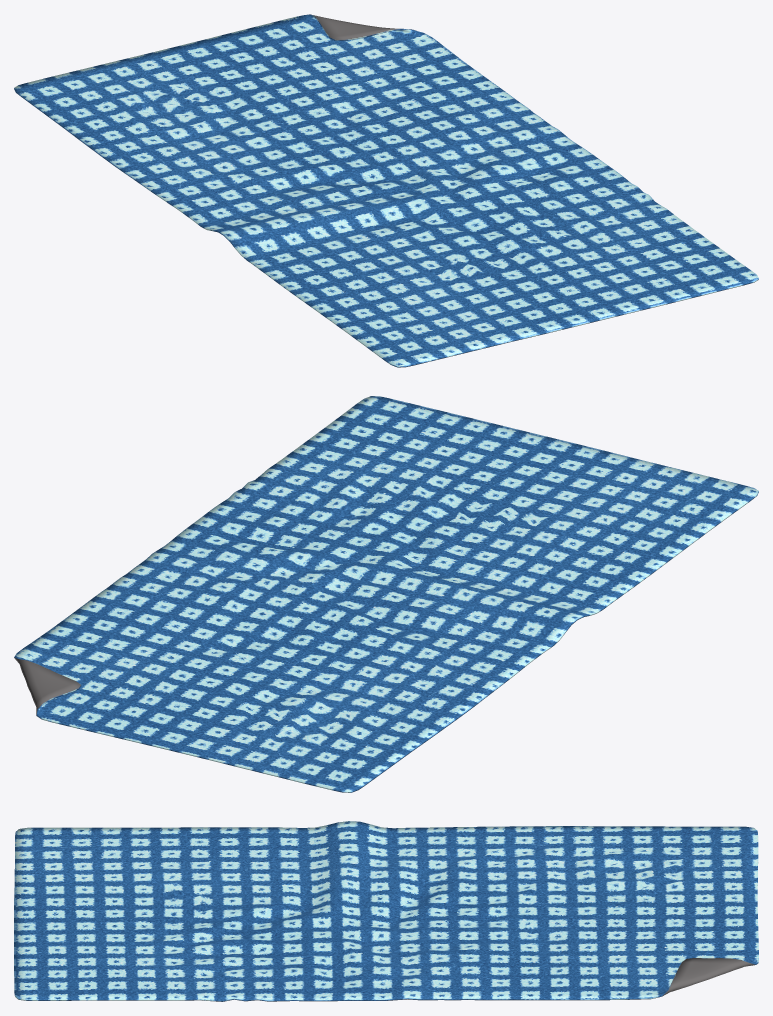
File: rug-source.glb
The picture shows the model from 3 angles, top to bottom: view 1: azimuth 30°, elevation 25°; view 2: azimuth 150°, elevation 25°; view 3: azimuth 270°, elevation 25°; orthographic projection. The views are drawn at different scales.
Parts seen in each view (by area): view 1: SM_rug_2.003; view 2: SM_rug_2.003; view 3: SM_rug_2.003.
Boxes of the visible parts, box(x1,y1,x2,y2) form: SM_rug_2.003: box(14, 14, 758, 367); SM_rug_2.003: box(14, 396, 758, 792); SM_rug_2.003: box(14, 821, 758, 1001).
Bounding box in the file's own units: 3.78 × 0.1095 × 6.83.
Materials: 1 (1 with a texture image).
